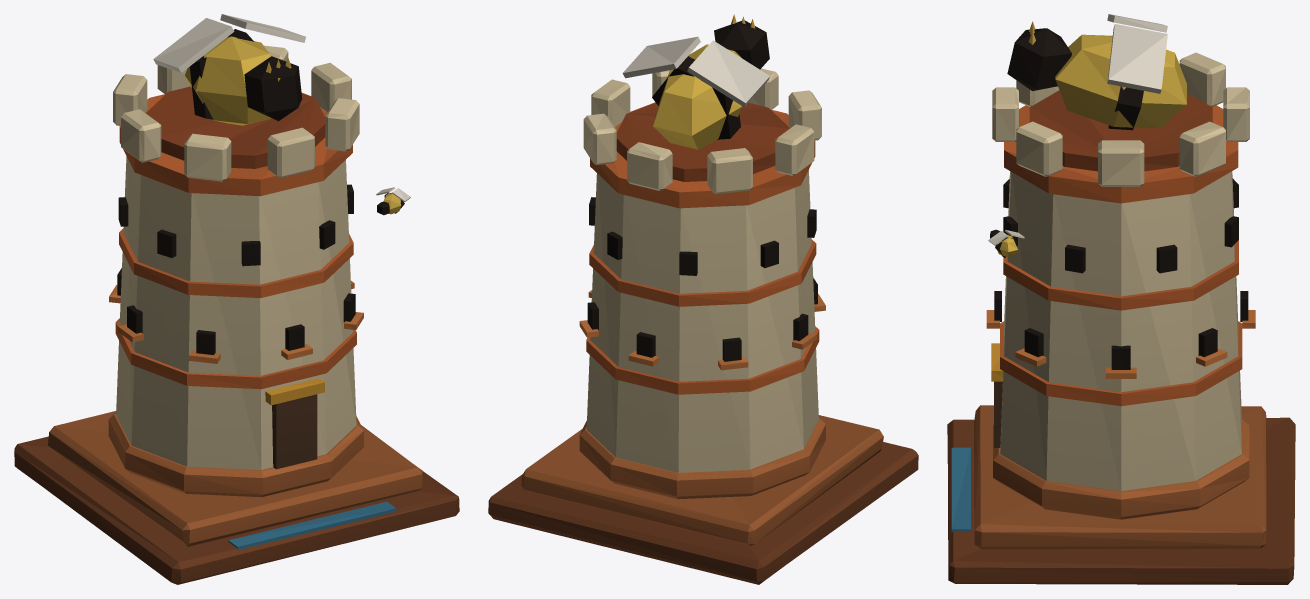
File: queens_guard.glb
3 renders of one model, left to right at view 1: azimuth 30°, elevation 25°; view 2: azimuth 150°, elevation 25°; view 3: azimuth 270°, elevation 25°, orthographic. The views are drawn at different scales.
Visible parts, largest first — view 1: queens_guard; view 2: queens_guard; view 3: queens_guard.
Boxes of the visible parts, box(x1,y1,x2,y2) form: queens_guard: box(14, 14, 459, 584); queens_guard: box(488, 14, 918, 584); queens_guard: box(947, 14, 1295, 584).
Bounding box in the file's own units: 0.9064 × 1.42 × 0.9047.
